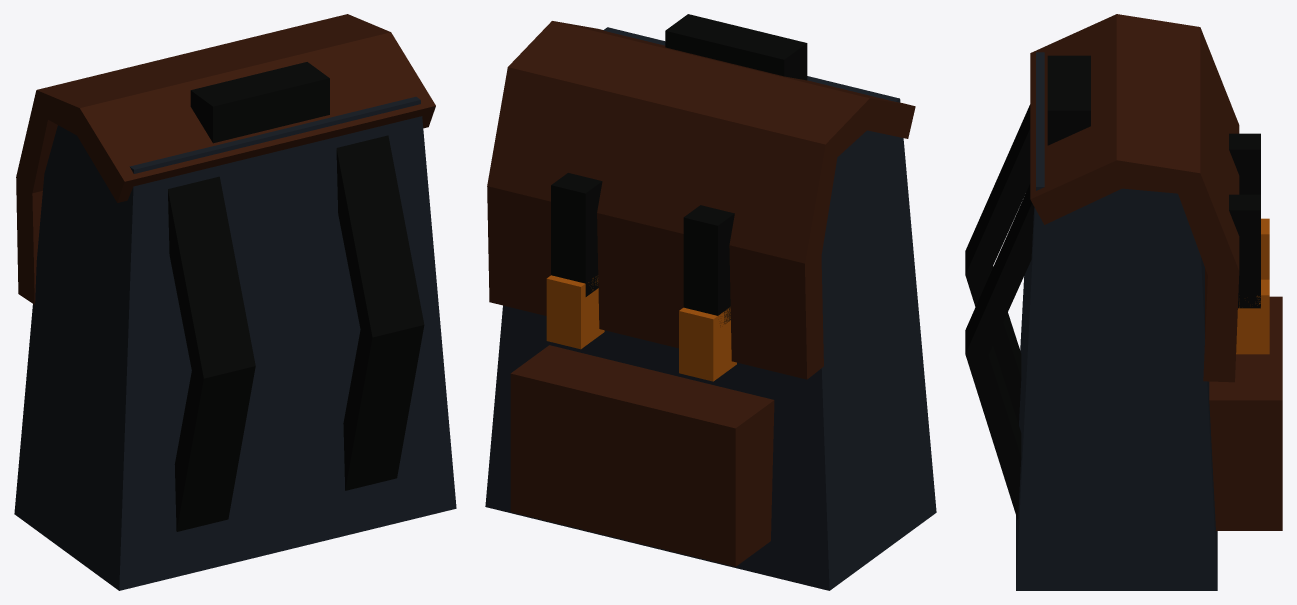
The model's file is SM_LootBackpack.fbx.
3 views of the same model, side by side, from view 1: azimuth 30°, elevation 25°; view 2: azimuth 150°, elevation 25°; view 3: azimuth 270°, elevation 25° (orthographic). The views are drawn at different scales.
Parts seen in each view (by area): view 1: SM_LootBackpack; view 2: SM_LootBackpack; view 3: SM_LootBackpack.
Part boxes in pixels (x1,y1,x2,y2): SM_LootBackpack: [14, 14, 456, 590]; SM_LootBackpack: [485, 14, 936, 590]; SM_LootBackpack: [965, 14, 1282, 590].
Size of the model in its own units: 26 by 32.8 by 22.
